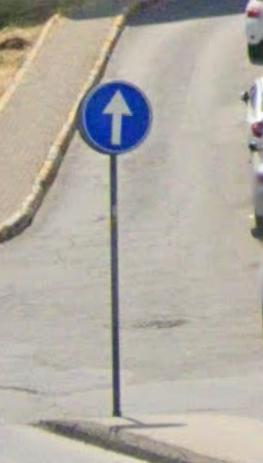forward: (80, 80, 159, 159)
